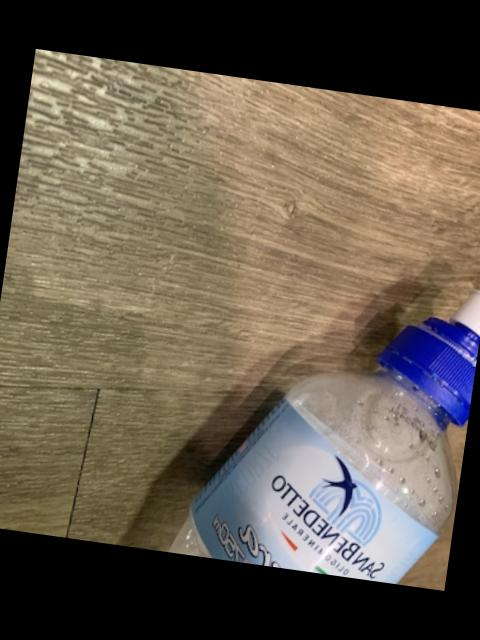plastic: (172, 293, 480, 584)
